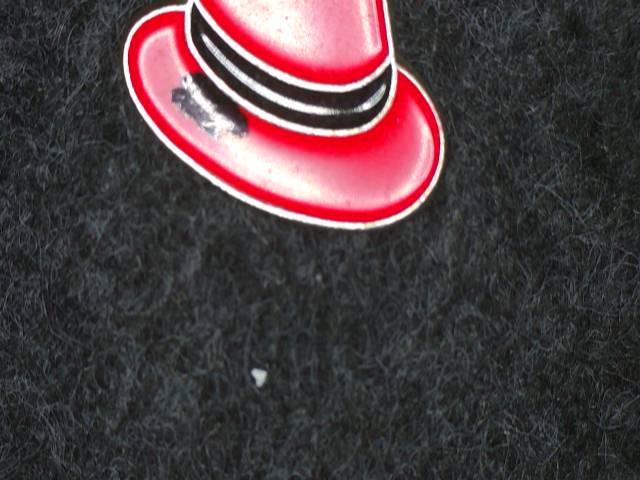Red-Hat: (110, 0, 469, 259)
Scratch: (160, 52, 263, 156)
